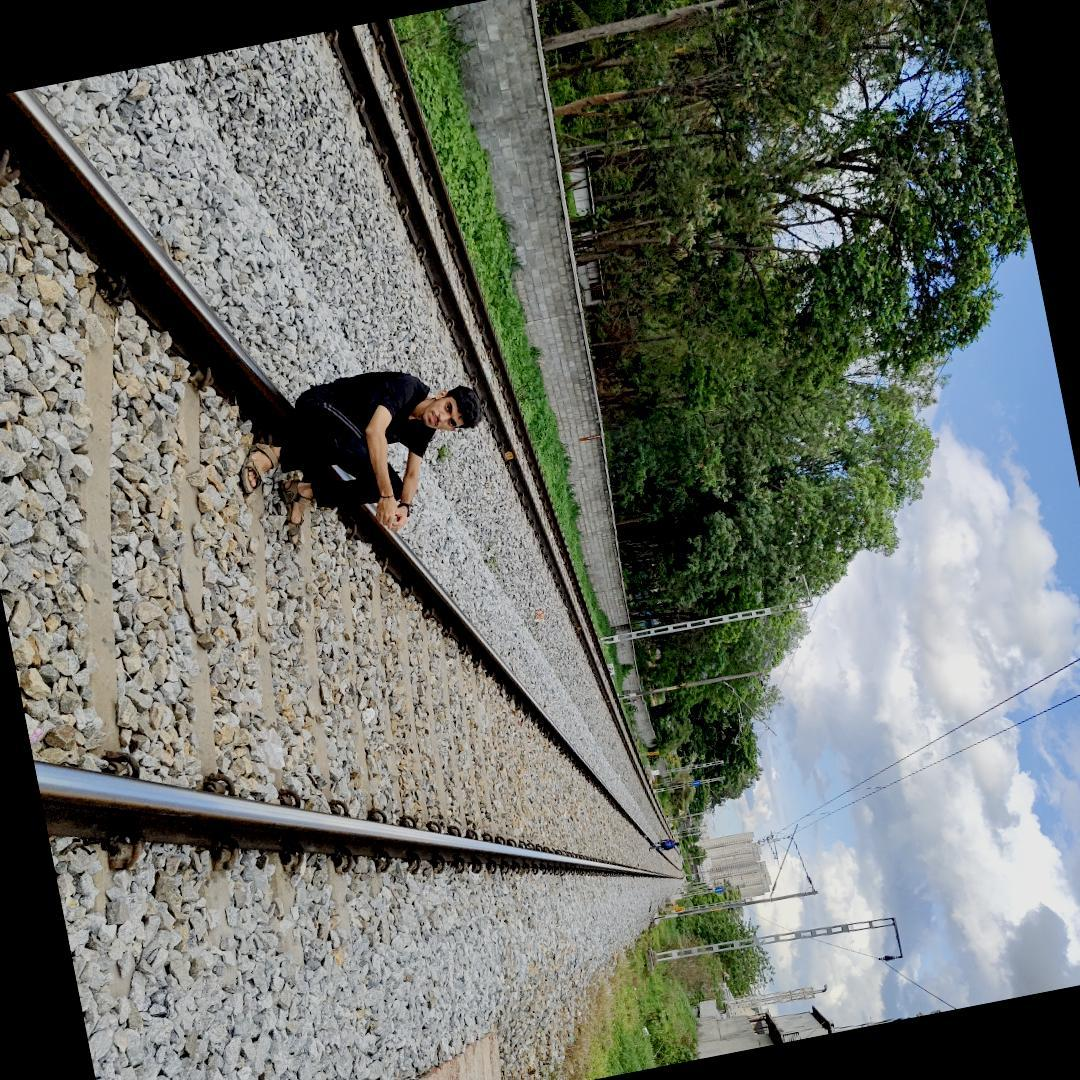sitting: (210, 355, 486, 537)
